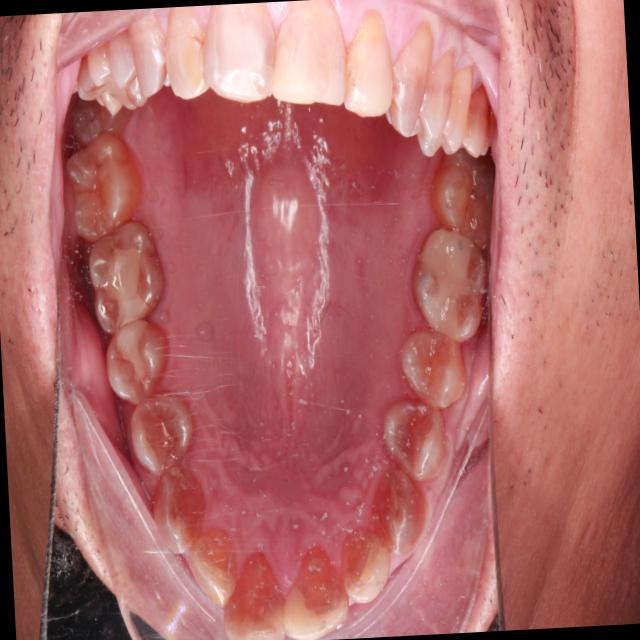tooth: (402, 214, 496, 349), (80, 214, 175, 343), (54, 126, 149, 246), (373, 381, 461, 495), (423, 138, 507, 252), (360, 456, 436, 577), (122, 381, 204, 490), (391, 313, 473, 414), (214, 542, 297, 640), (97, 313, 178, 413), (174, 518, 251, 615), (278, 543, 355, 640), (146, 456, 214, 558), (336, 517, 397, 616)
